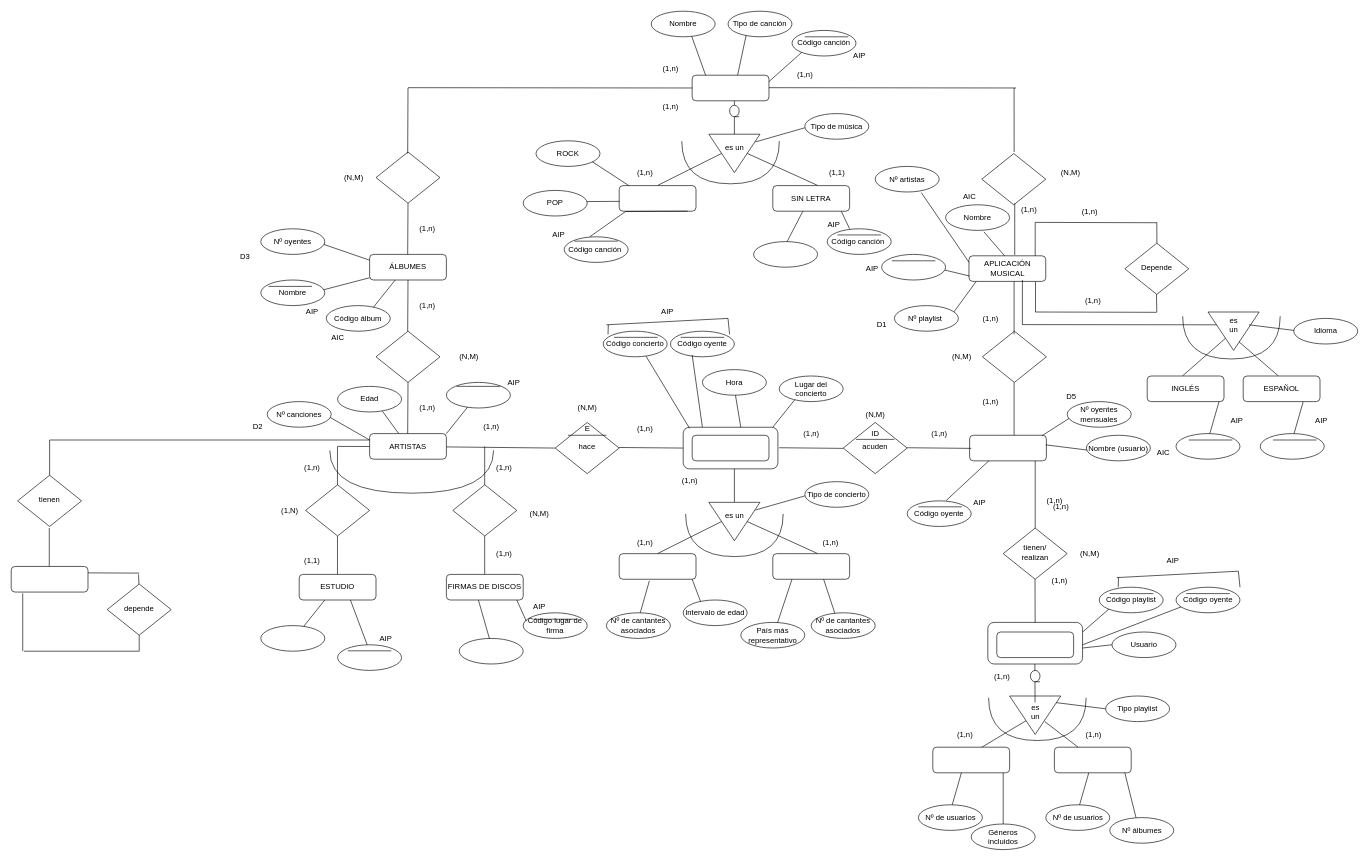
The diagram is 1369 pixels wide and 861 high, and some of its shapes have lost their labels. The centre of each missing label's shape, as x and y in pixels:
"almacenadas" belongs at [1013,179].
"aparece" belongs at [484,510].
"CANCIONES" belongs at [730,88].
"COLABORACIONES" belongs at [49,579].
"Compañía discográfica" belongs at [369,657].
"CON LETRA" belongs at [657,198].
"CONCIERTOS" belongs at [730,448].
"Contienen" belongs at [407,177].
"Crea" belongs at [407,356].
"Código app" belongs at [913,267].
"Código idioma (español)" belongs at [1292,446].
"Código idioma (inglés)" belongs at [1207,446].
"ELECTRÓNICA" belongs at [785,254].
"está" belongs at [337,510].
"FLAMENCO" belongs at [811,566].
"Intervienen" belongs at [1014,356].
"Nombre artístico" belongs at [478,395].
"OYENTES" belongs at [1007,448].
"PLAYLIST" belongs at [1035,644].
"PRIVADAS" belongs at [1092,760].
"Productores" belongs at [292,638].
"PÚBLICAS" belongs at [971,760].
"Representante" belongs at [491,651].
"TRAP" belongs at [657,566].
